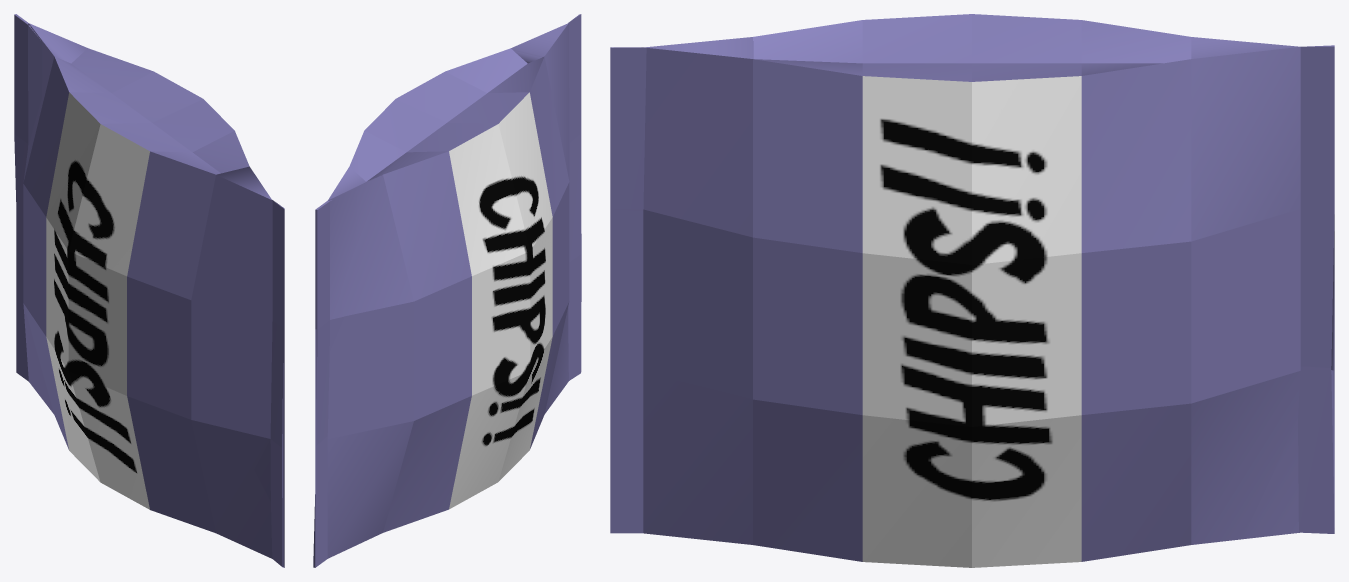
The model's file is Chips.obj.
3 views of the same model, side by side, from view 1: azimuth 30°, elevation 25°; view 2: azimuth 150°, elevation 25°; view 3: azimuth 270°, elevation 25° (orthographic). The views are drawn at different scales.
Visible parts, largest first — view 1: Chips; view 2: Chips; view 3: Chips.
Boxes of the visible parts, left/top/right/bottom form: Chips: left=14, top=14, right=284, bottom=567; Chips: left=313, top=14, right=581, bottom=567; Chips: left=610, top=14, right=1334, bottom=567.
Bounding box in the file's own units: 0.0794 × 0.1632 × 0.2204.
1 material, 1 textured.
